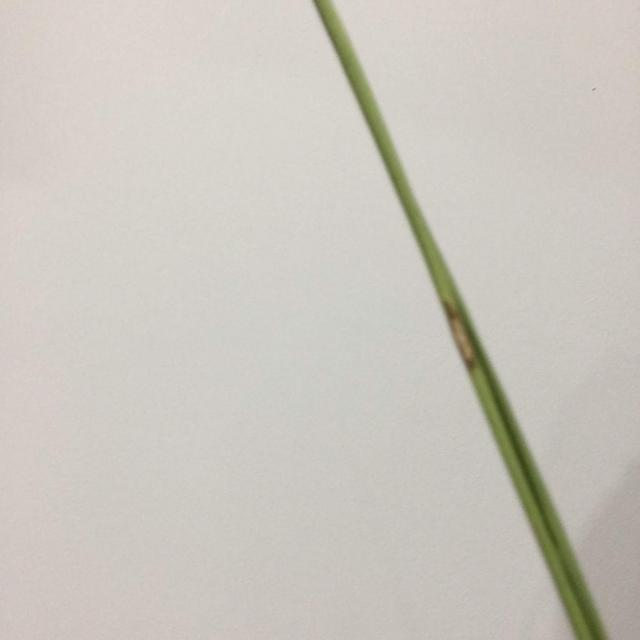Blast: (449, 312, 484, 366)
